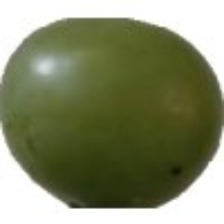grapes: (19, 54, 217, 215)
